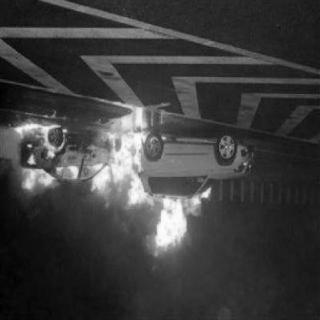Fire: (14, 121, 82, 199)
